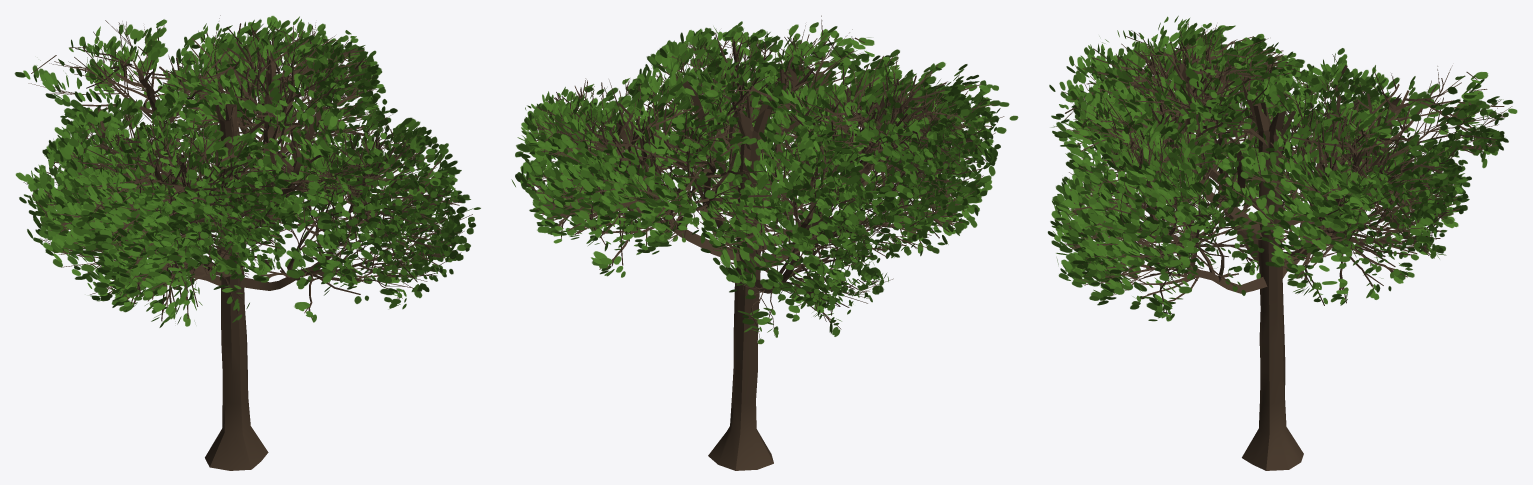
3 views of the same model, side by side, from view 1: azimuth 30°, elevation 25°; view 2: azimuth 150°, elevation 25°; view 3: azimuth 270°, elevation 25° (orthographic).
Visible parts, largest first — view 1: oak 01.001_trunk_Mat.001_0.071; view 2: oak 01.001_trunk_Mat.001_0.071; view 3: oak 01.001_trunk_Mat.001_0.071.
Boxes of the visible parts, bbox=[...] form: oak 01.001_trunk_Mat.001_0.071: bbox=[14, 15, 480, 470]; oak 01.001_trunk_Mat.001_0.071: bbox=[511, 15, 1018, 470]; oak 01.001_trunk_Mat.001_0.071: bbox=[1047, 15, 1517, 470].
Bounding box in the file's own units: 5.67 × 5 × 5.83.
Materials: 2 (1 with a texture image).
